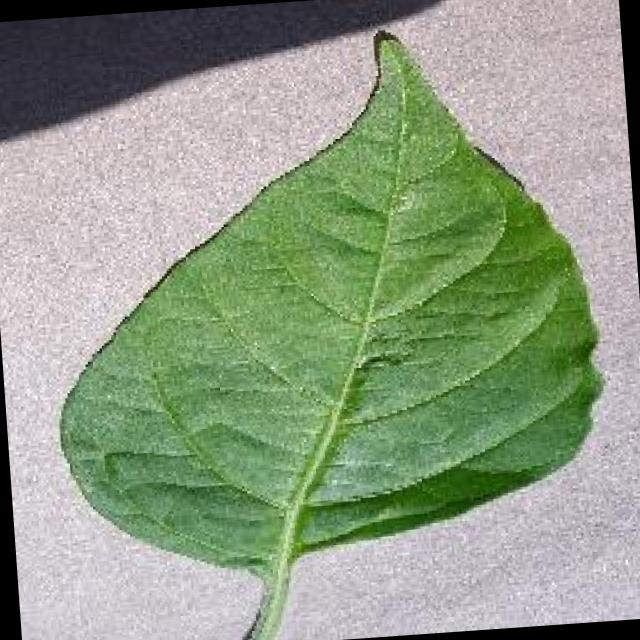Chilli_Healthy: (30, 11, 621, 640)
